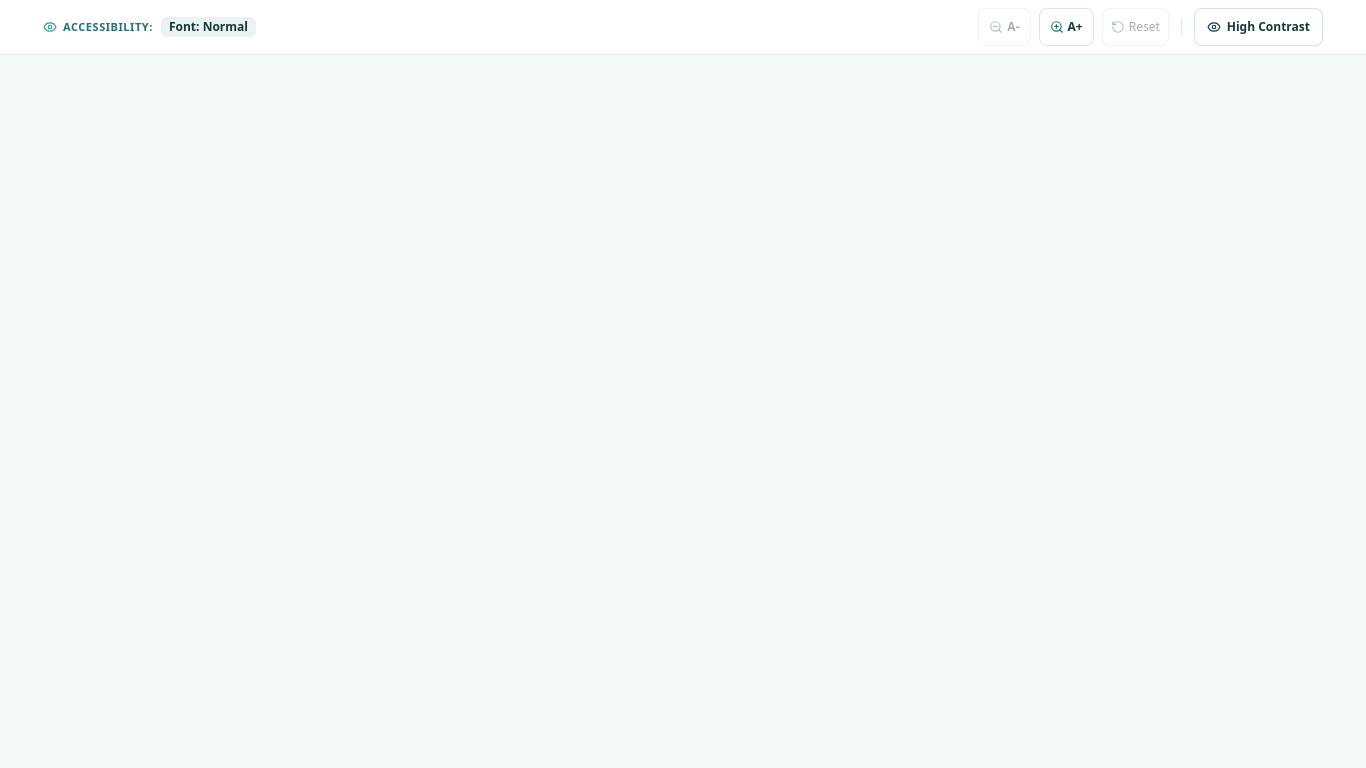
it: Accessibility Controls & Context › toggles High Contrast mode on and off
This screenshot has width=1366, height=768.
// Toggle ON
Click the button with aria-label "toggle high contrast": (1258, 27) [1194, 8, 1323, 46]
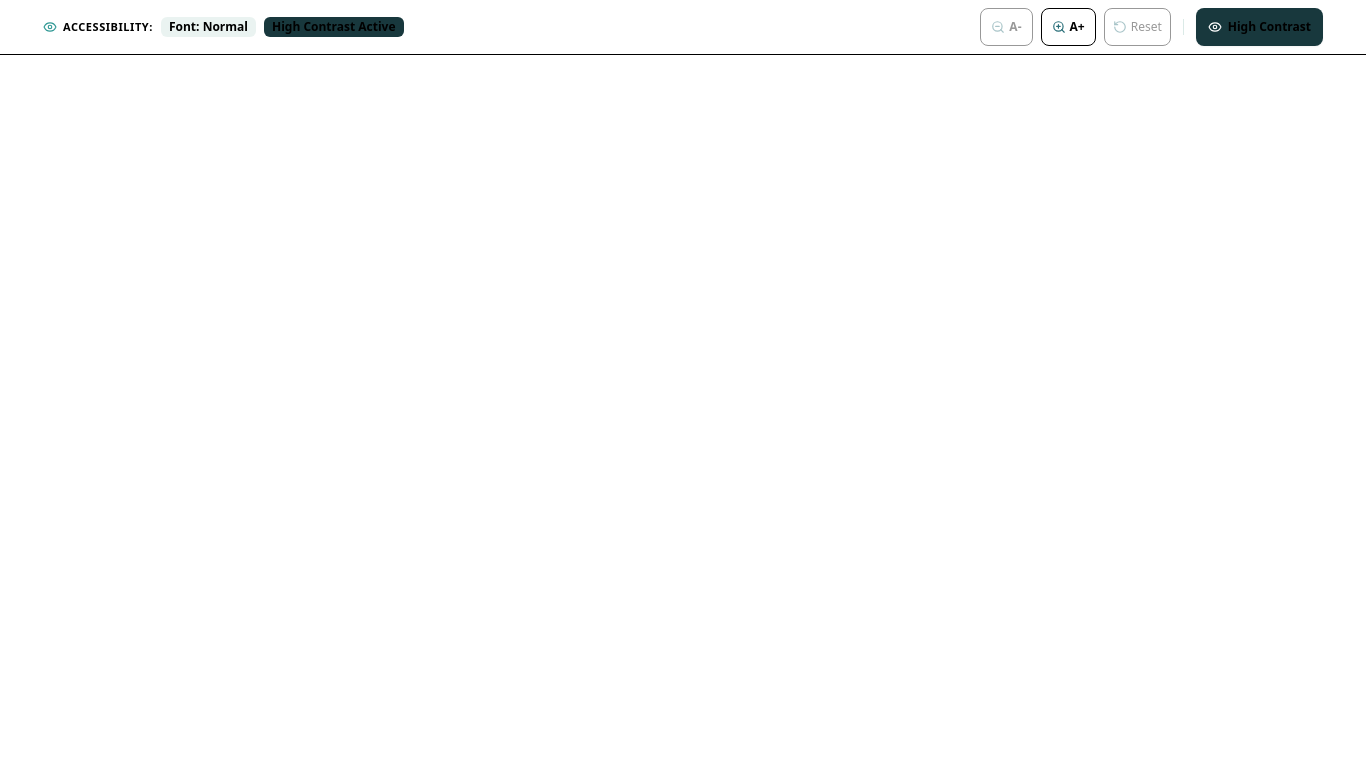
Result: the text "High Contrast Active" is shown at [264, 17, 404, 37]
// Toggle OFF
Click the button with aria-label "toggle high contrast": (1259, 27) [1196, 8, 1323, 46]
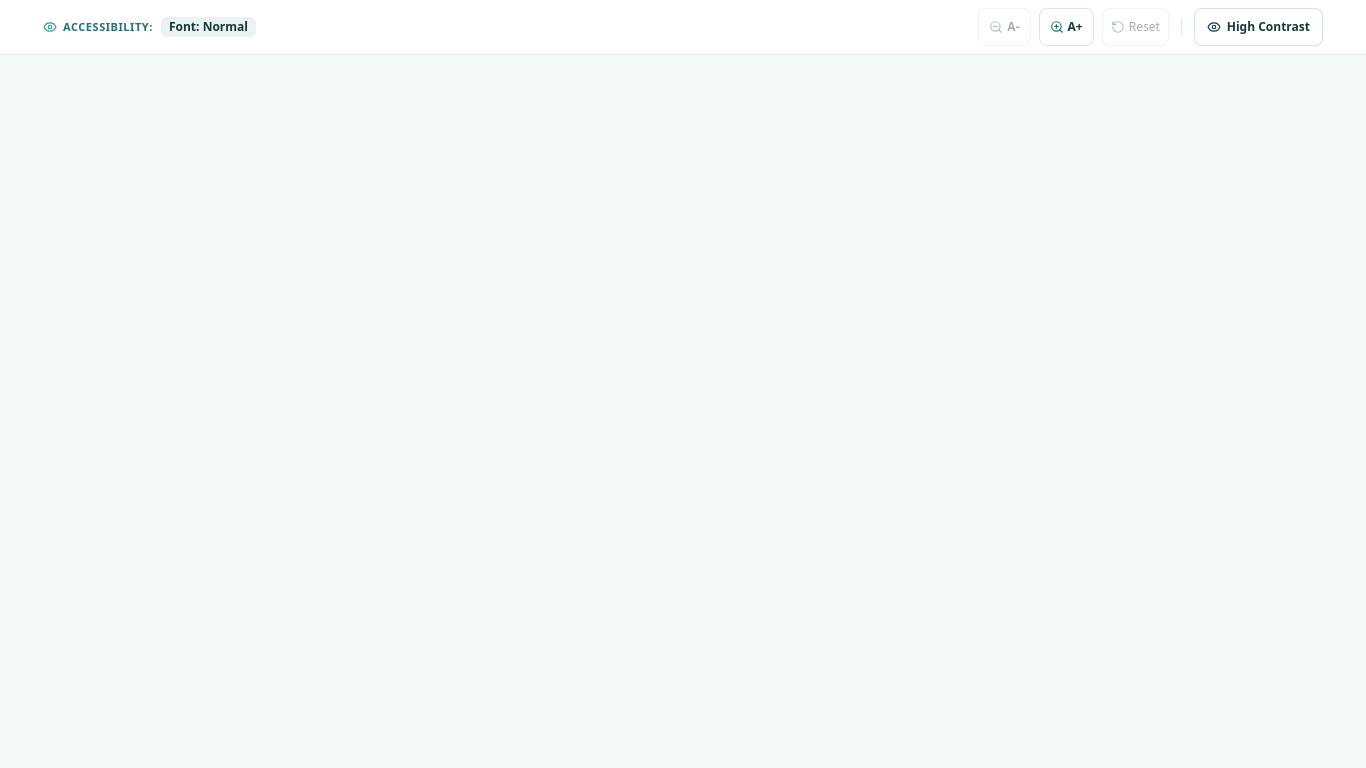
Result: the button with aria-label "toggle high contrast" is not pressed at [1194, 8, 1323, 46]
